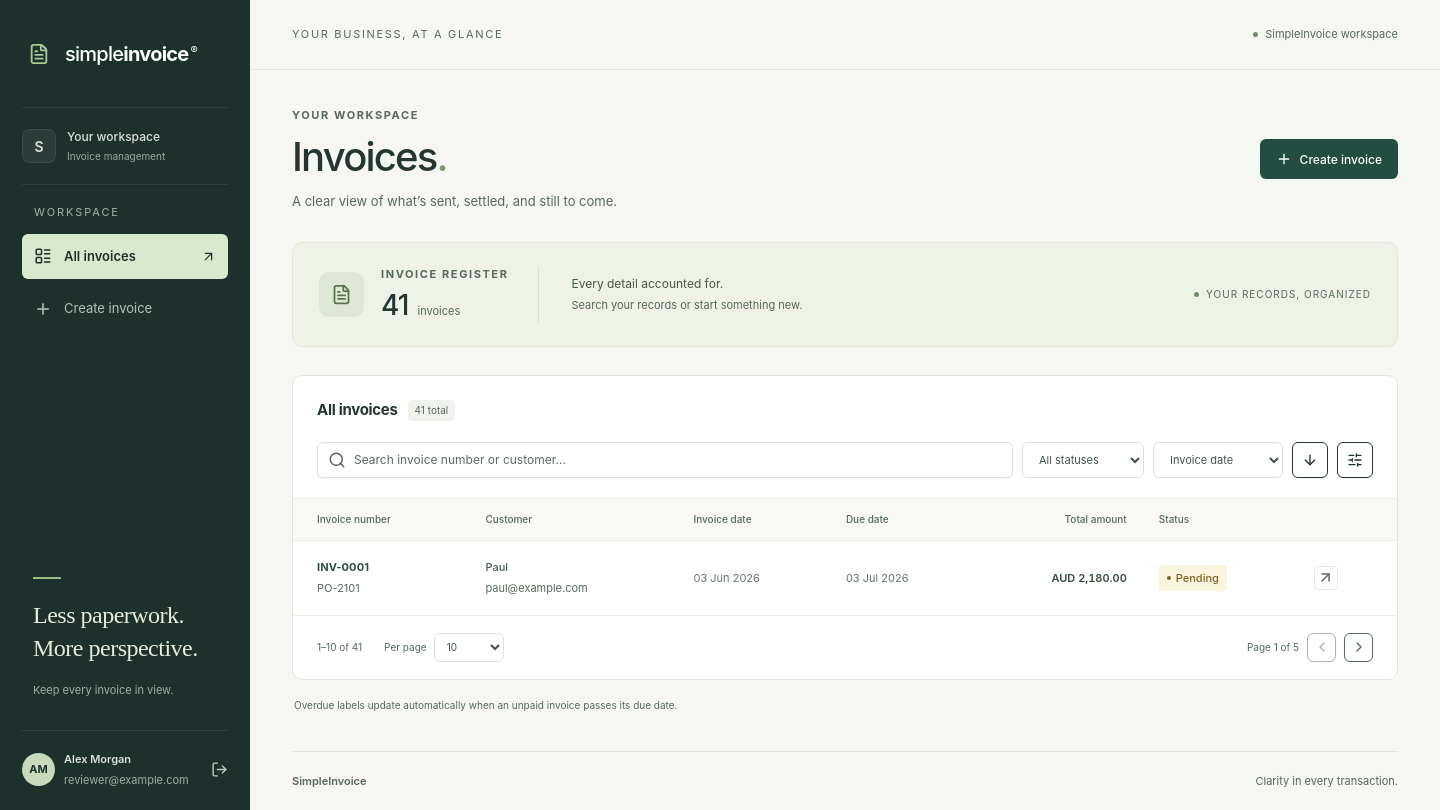
Test: Authentication and protected routes › signs out and clears protected content
Expected: the heading "Invoices." is shown, [292,132,447,180]
Click the button named "Sign out" at (217, 770), box [206,754,228,785]
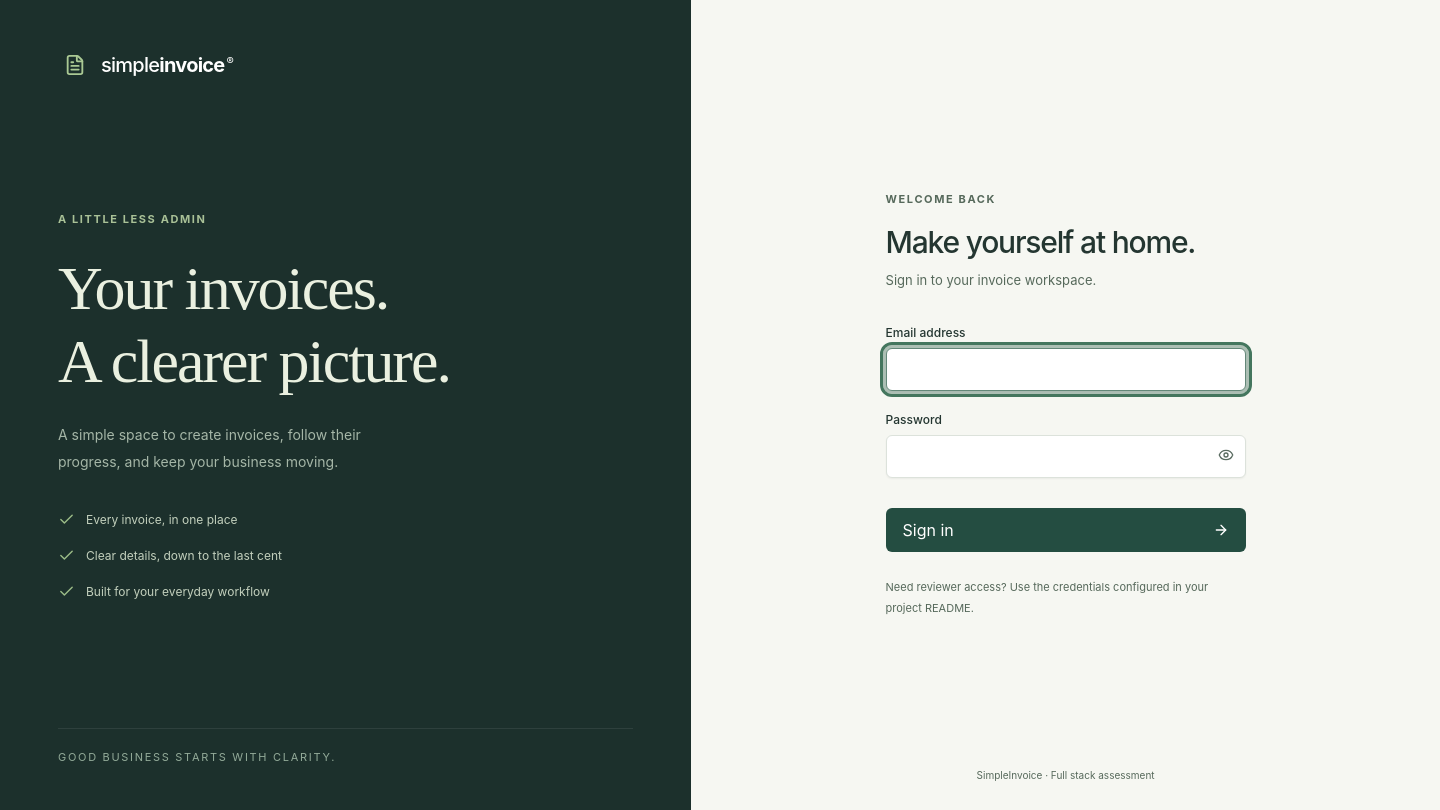
Now the heading "Make yourself at home." is shown, box [886,221,1246,263]
